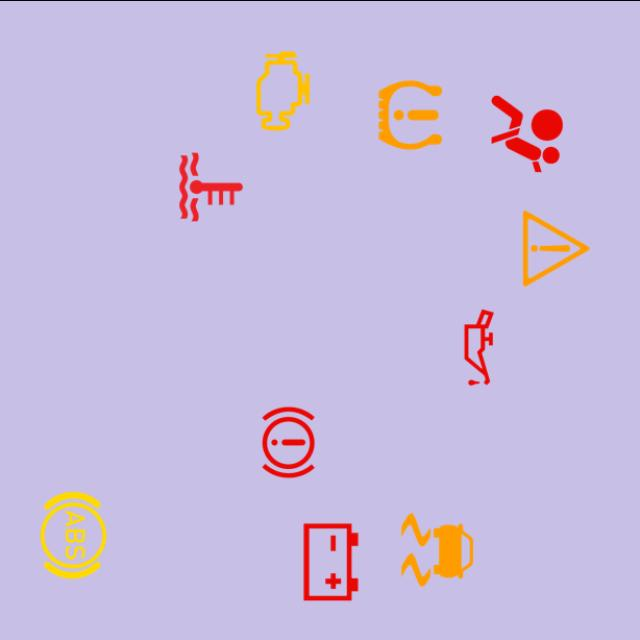Anti Lock Braking System: (26, 486, 121, 582)
Braking System Issue: (240, 394, 336, 489)
Charging System Issue: (284, 514, 378, 609)
Check Engine: (236, 42, 330, 138)
Electronic Stability Problem -ESP-: (390, 502, 485, 596)
Engine Overheating Warning Light: (164, 138, 258, 234)
Low Engine Oil Warning Light: (432, 299, 526, 394)
Low Tire Pressure Warning Light: (362, 66, 458, 162)
Master warning light: (508, 200, 604, 295)
SRS-Airbag: (480, 86, 574, 180)
